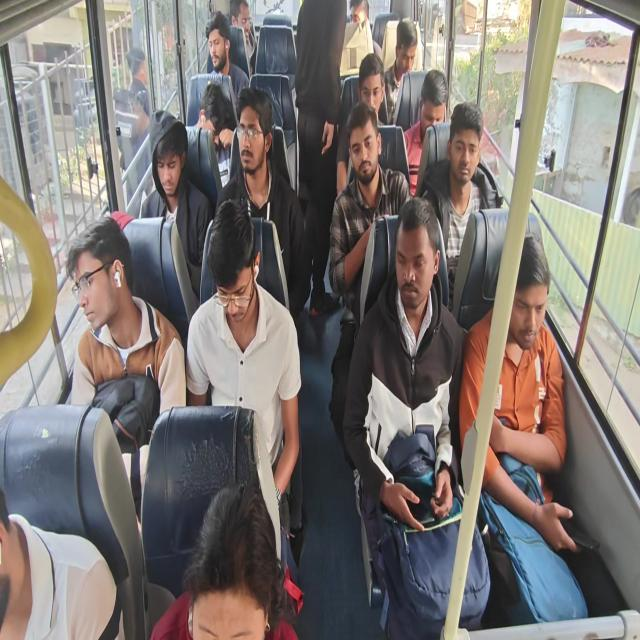person: (175, 487, 289, 640), (294, 0, 339, 300), (389, 184, 448, 319), (496, 232, 558, 359), (66, 228, 134, 328), (209, 214, 256, 322), (348, 96, 384, 188), (444, 103, 482, 188), (149, 126, 189, 206), (198, 90, 232, 151), (391, 20, 420, 79), (356, 55, 385, 111), (241, 101, 264, 170), (418, 78, 446, 129), (204, 22, 228, 72), (226, 2, 251, 38), (347, 4, 375, 34)
